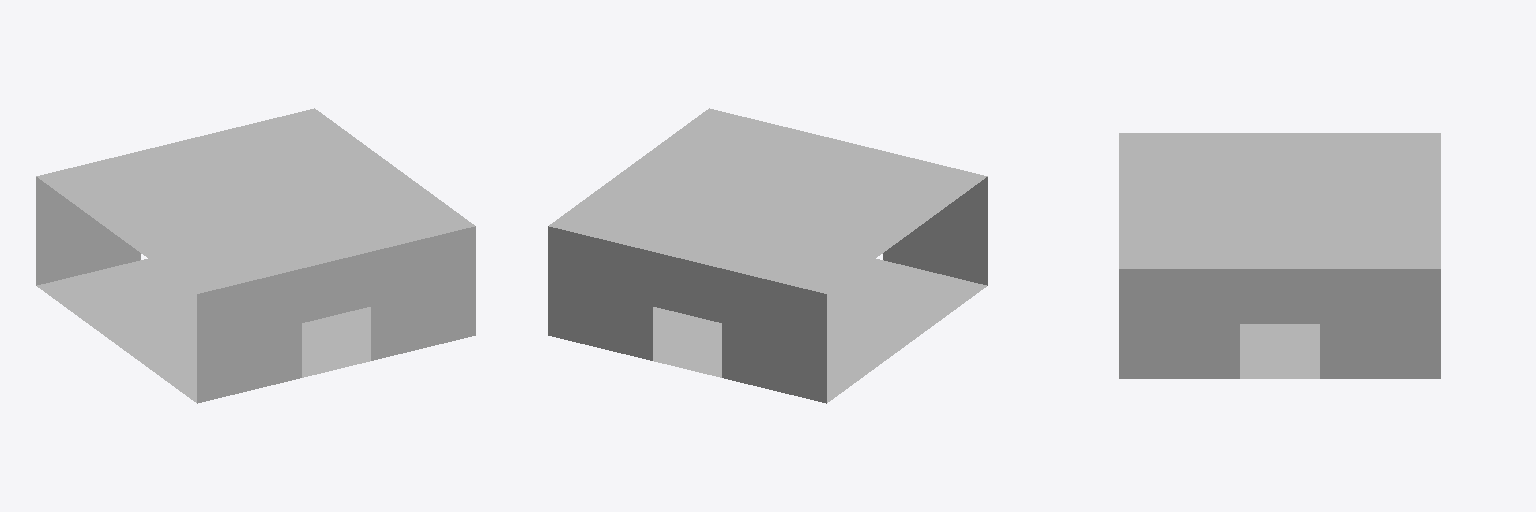
3 views of the same model, side by side, from view 1: azimuth 30°, elevation 25°; view 2: azimuth 150°, elevation 25°; view 3: azimuth 270°, elevation 25° (orthographic).
Parts seen in each view (by area): view 1: RoomBox_Plane; view 2: RoomBox_Plane; view 3: RoomBox_Plane.
Boxes of the visible parts, <box> form: RoomBox_Plane: <box>36,108,475,403</box>; RoomBox_Plane: <box>548,108,987,403</box>; RoomBox_Plane: <box>1119,133,1440,378</box>.
Size of the model in its own units: 16 by 6 by 16.